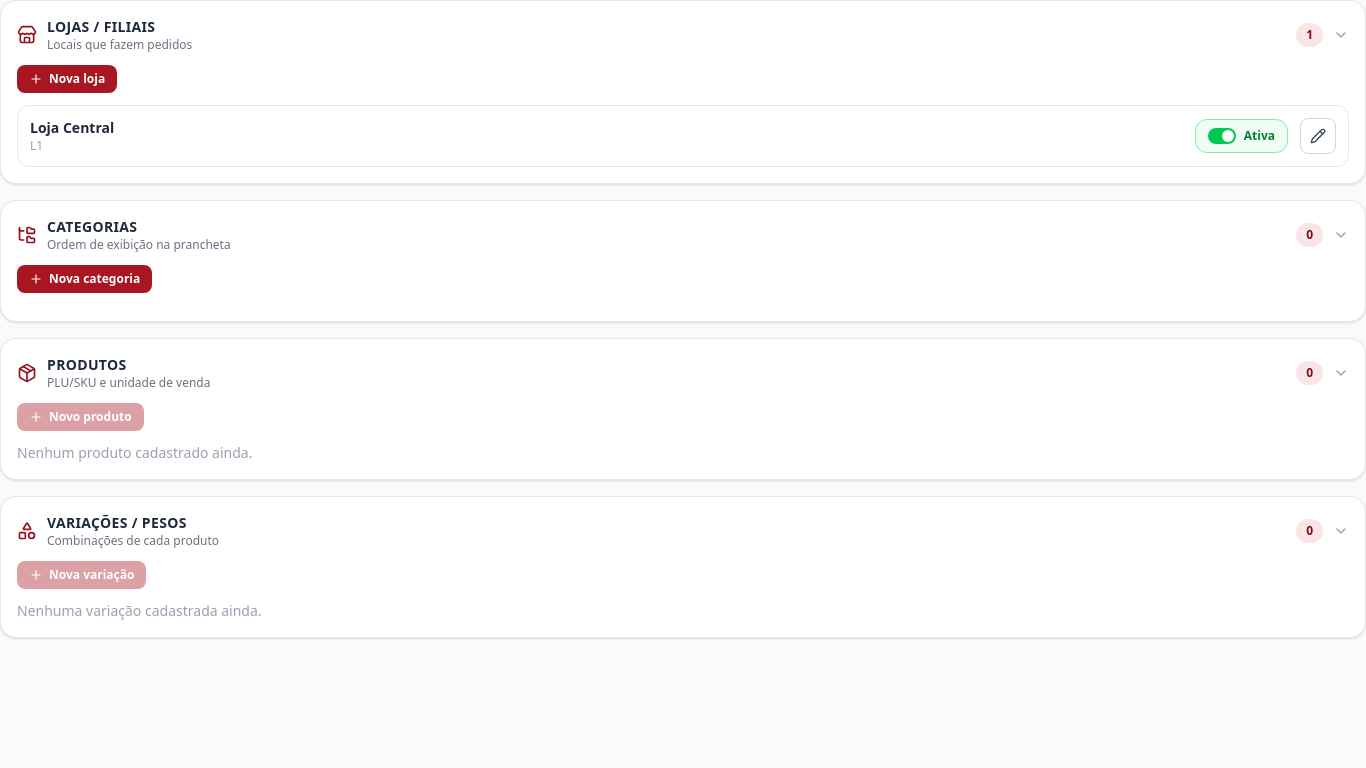
Test: CatalogBoard — colapso persistido › mantém a seção colapsada ao remontar
Click the button "Lojas / Filiais Locais que fazem pedidos 1" at (101, 26), box [17,17,1349,53]
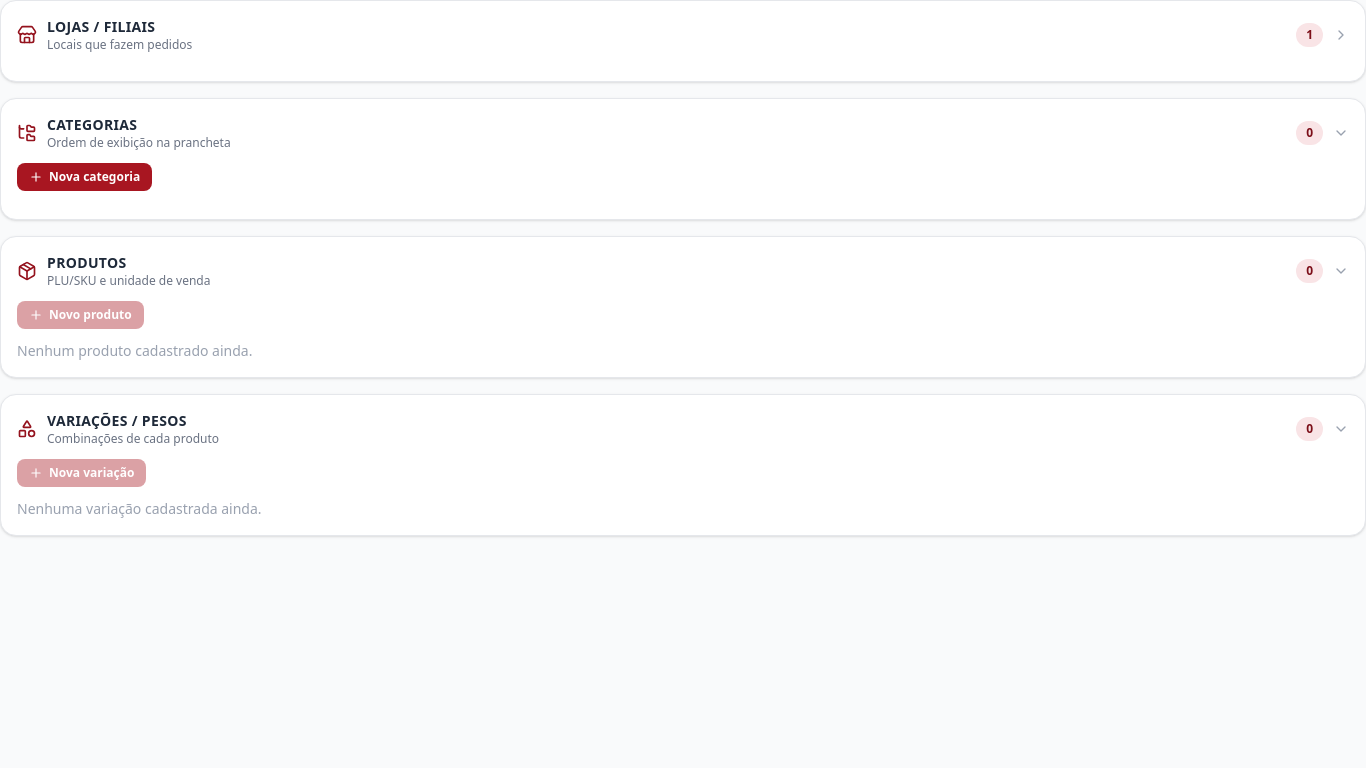
Now the button "Lojas / Filiais Locais que fazem pedidos 1" is collapsed, box [17,17,1349,53]
